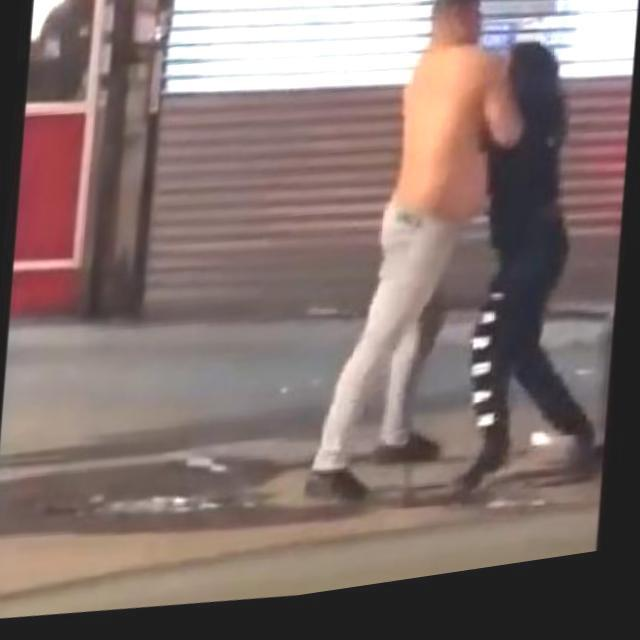fight: (304, 0, 606, 541)
